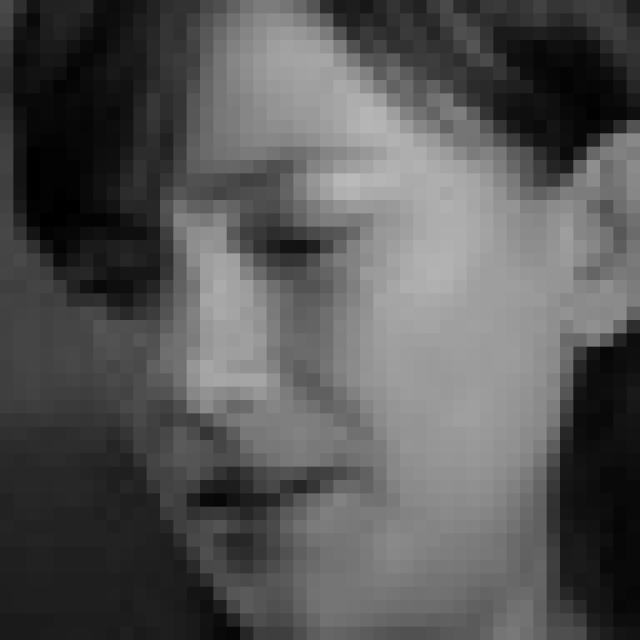sad: (74, 138, 431, 577)
